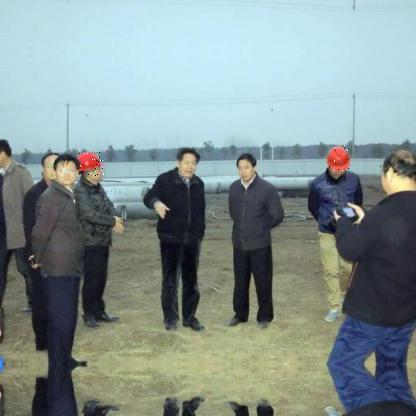safetyhelmet: (325, 144, 352, 172), (78, 152, 105, 177)
